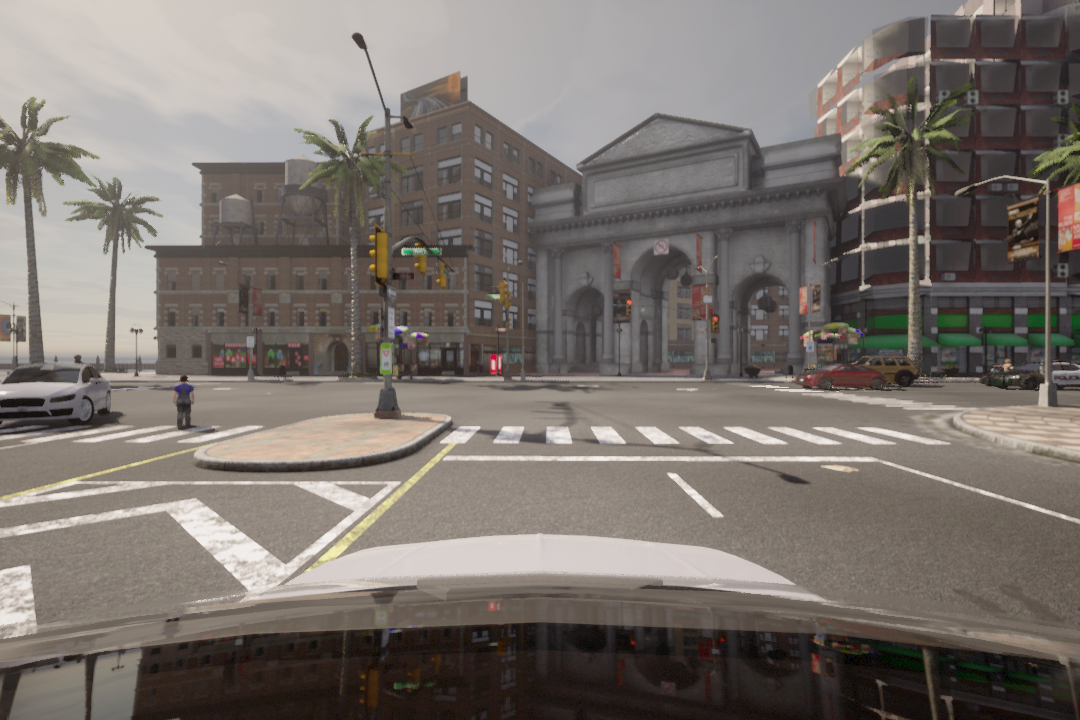TrafficLight: (707, 314, 723, 337), (626, 301, 634, 317)
TrafficSign: (654, 238, 669, 253)
walkside: (447, 425, 941, 455), (1, 423, 260, 452)
